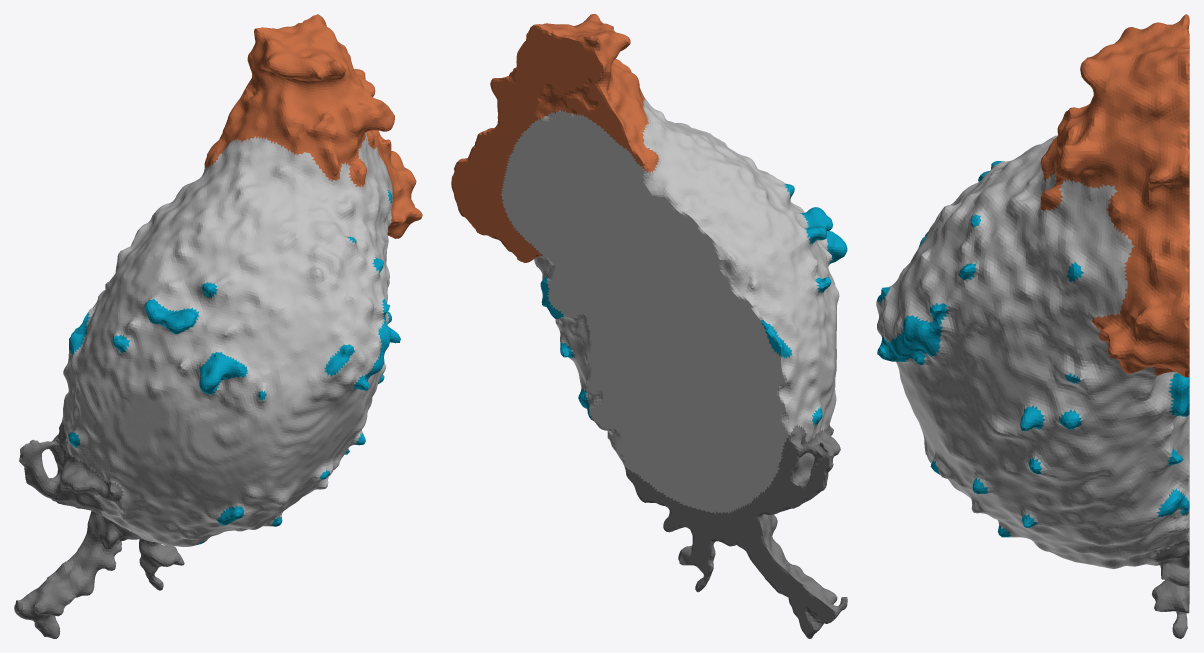
3 renders of one model, left to right at view 1: azimuth 30°, elevation 25°; view 2: azimuth 150°, elevation 25°; view 3: azimuth 270°, elevation 25°, orthographic. The views are drawn at different scales.
Size of the model in its own units: 126 by 171 by 68.18.
